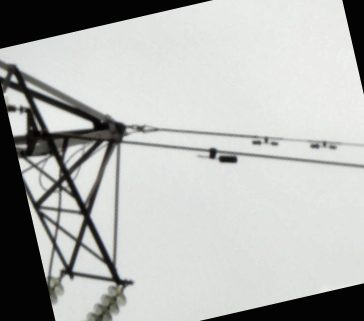damper: (309, 138, 339, 151), (249, 134, 280, 146)
damper_defect: (195, 146, 239, 164)
